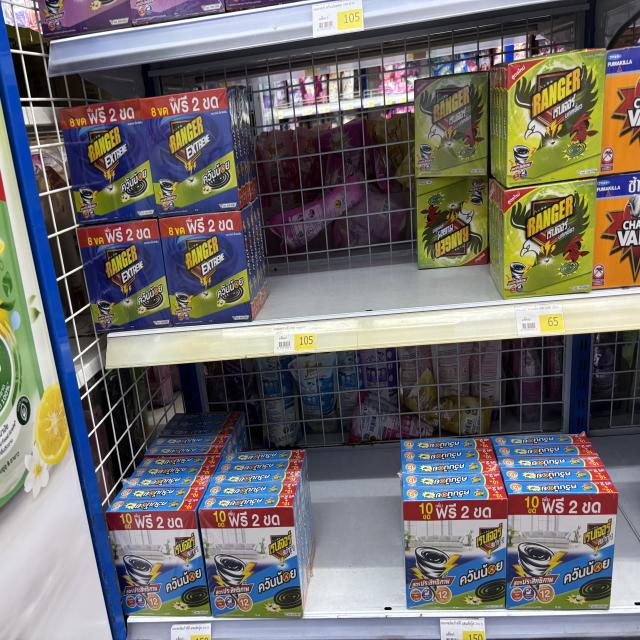empty_shelf: (235, 63, 423, 322), (399, 337, 619, 497), (86, 355, 292, 512), (303, 352, 403, 614), (412, 52, 502, 309)
